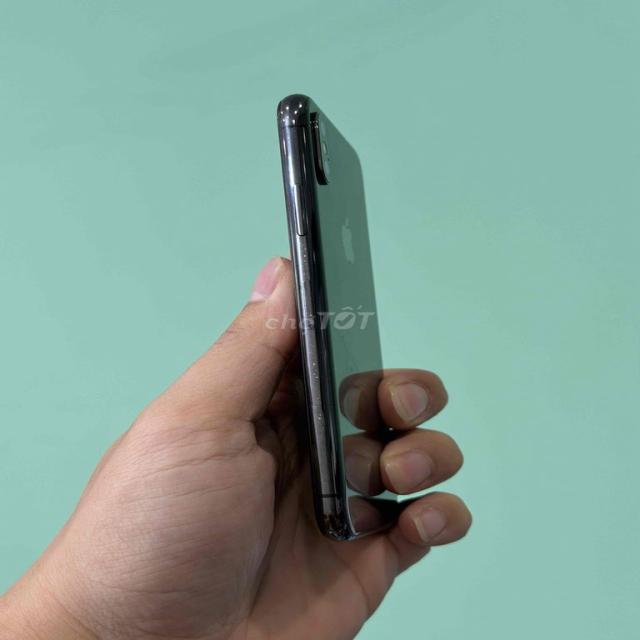scratch: (288, 242, 334, 432)
